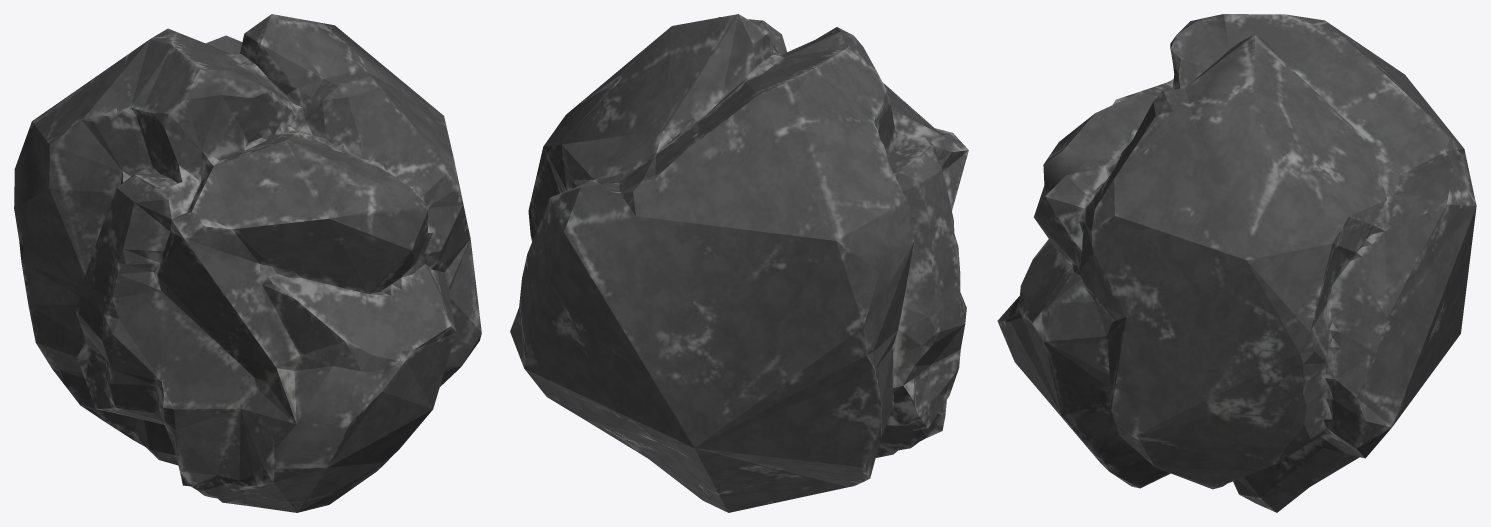
The model's file is big_rock_v2.glb.
3 renders of one model, left to right at view 1: azimuth 30°, elevation 25°; view 2: azimuth 150°, elevation 25°; view 3: azimuth 270°, elevation 25°, orthographic. The views are drawn at different scales.
Parts seen in each view (by area): view 1: med_rock.013; view 2: med_rock.013; view 3: med_rock.013.
Boxes of the visible parts, <box> form: med_rock.013: <box>14,14,481,512</box>; med_rock.013: <box>510,14,968,512</box>; med_rock.013: <box>997,14,1476,512</box>.
Bounding box in the file's own units: 10.71 × 12.85 × 11.83.
Materials: 1 (1 with a texture image).
